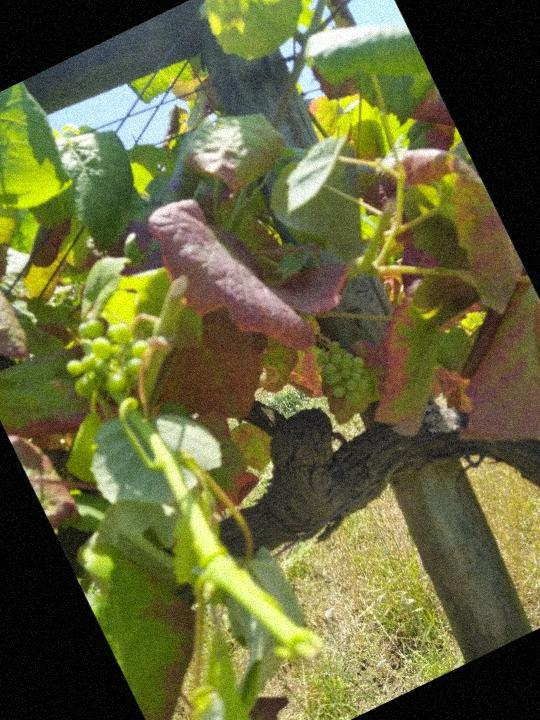grape: (49, 300, 167, 420), (303, 330, 382, 419)
